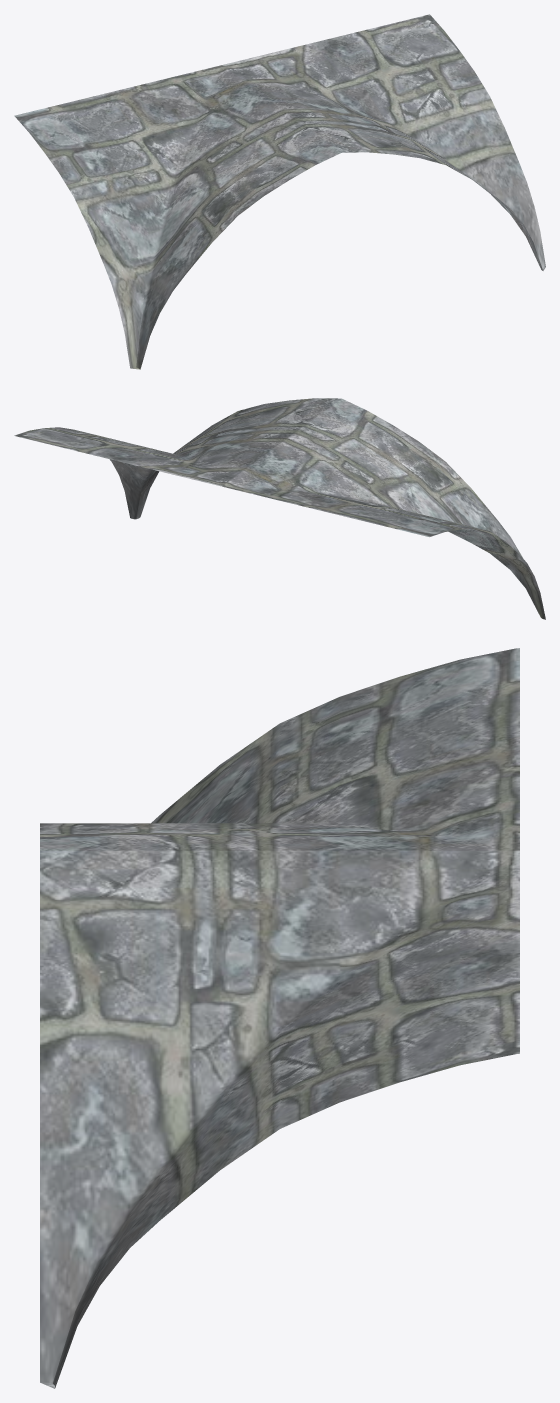
File: SM_Crypt_Ceiling_Half.glb
The picture shows the model from 3 angles, top to bottom: view 1: azimuth 30°, elevation 25°; view 2: azimuth 150°, elevation 25°; view 3: azimuth 270°, elevation 25°; orthographic projection. The views are drawn at different scales.
Parts seen in each view (by area): view 1: SM_Crypt_Ceiling_Half; view 2: SM_Crypt_Ceiling_Half; view 3: SM_Crypt_Ceiling_Half.
Part boxes in pixels (<box>): SM_Crypt_Ceiling_Half: <box>14,14,545,369</box>; SM_Crypt_Ceiling_Half: <box>14,398,545,619</box>; SM_Crypt_Ceiling_Half: <box>40,648,519,1388</box>.
Bounding box in the file's own units: 5 × 1.93 × 2.5.
Materials: 1 (1 with a texture image).
